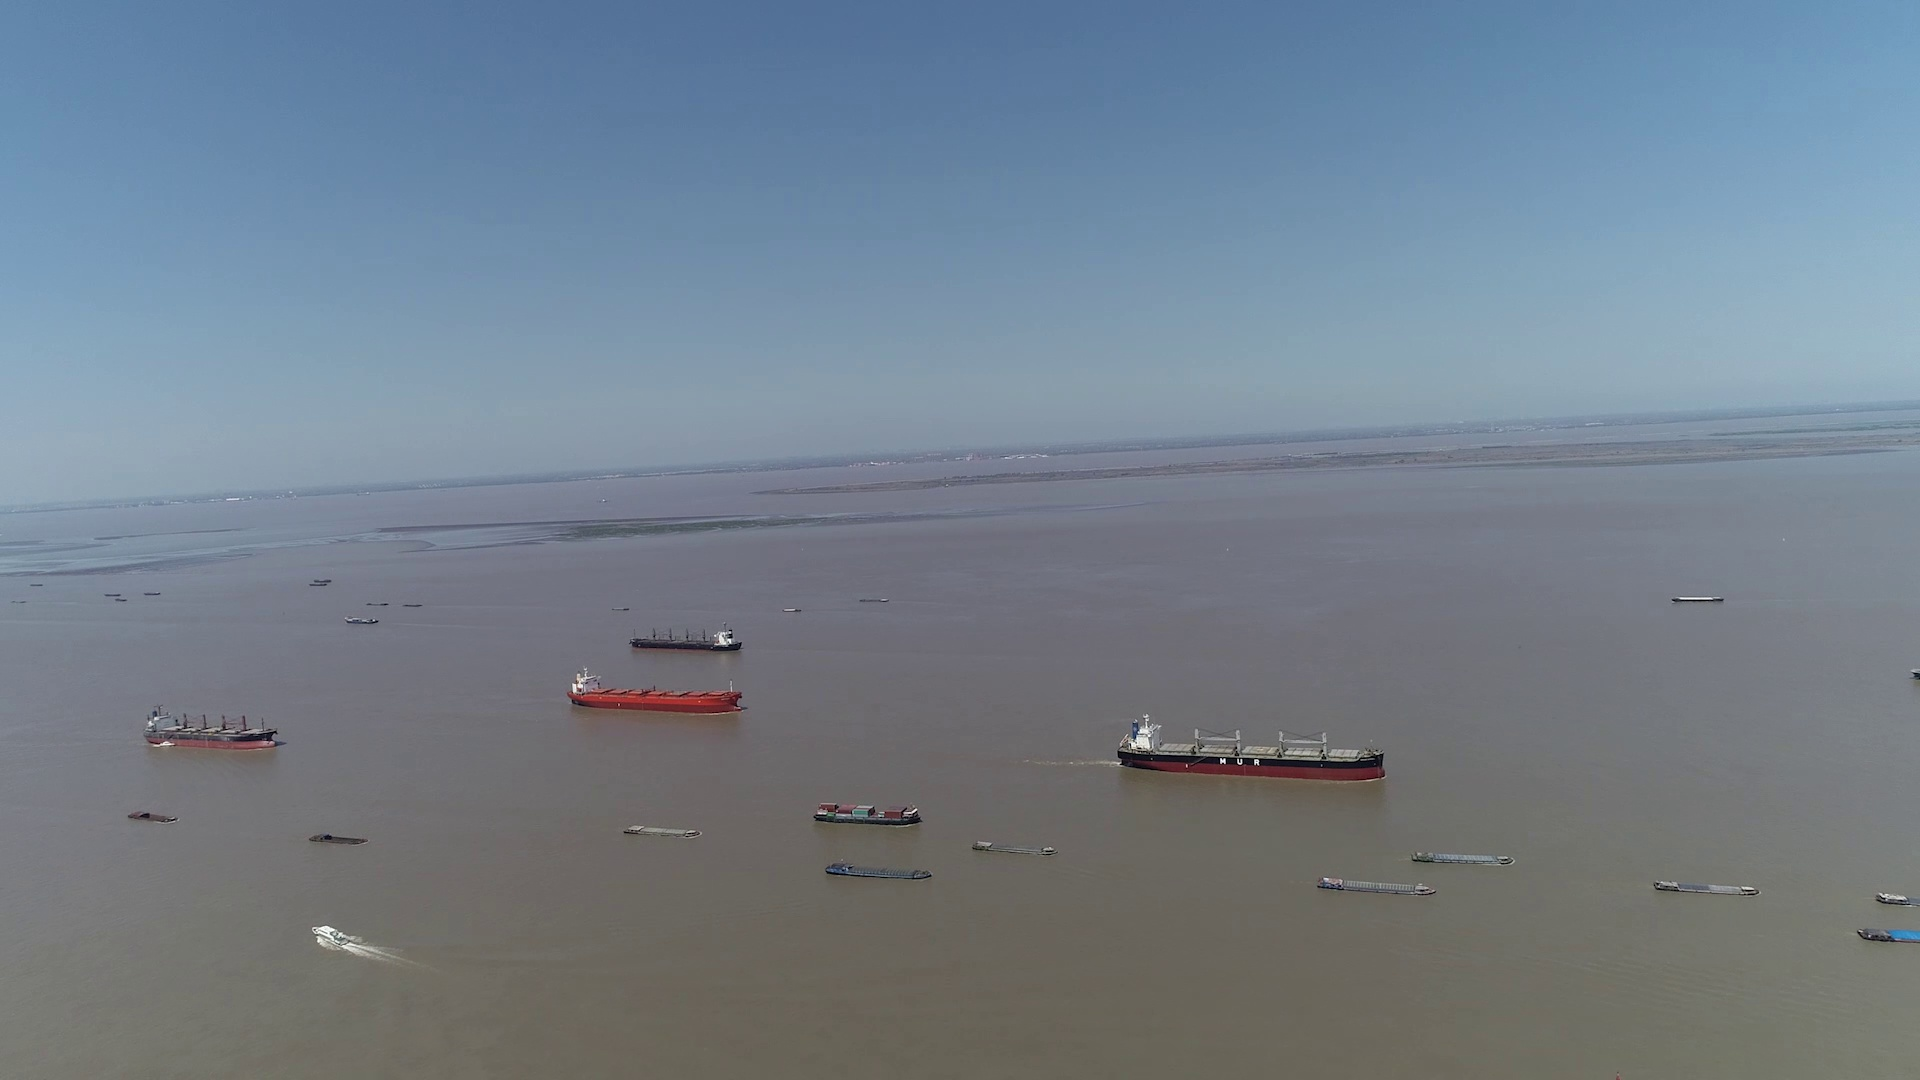ship: (1117, 713, 1383, 782), (567, 669, 741, 713), (144, 704, 278, 752), (632, 624, 742, 653), (812, 802, 922, 825), (1316, 876, 1436, 895), (822, 861, 928, 880), (1654, 878, 1759, 895), (1412, 848, 1515, 865), (971, 837, 1058, 855), (1851, 928, 1920, 945), (621, 823, 700, 837), (1873, 891, 1917, 910), (310, 833, 369, 845), (127, 810, 177, 823), (310, 923, 344, 942), (1673, 595, 1722, 603), (345, 615, 378, 622)
